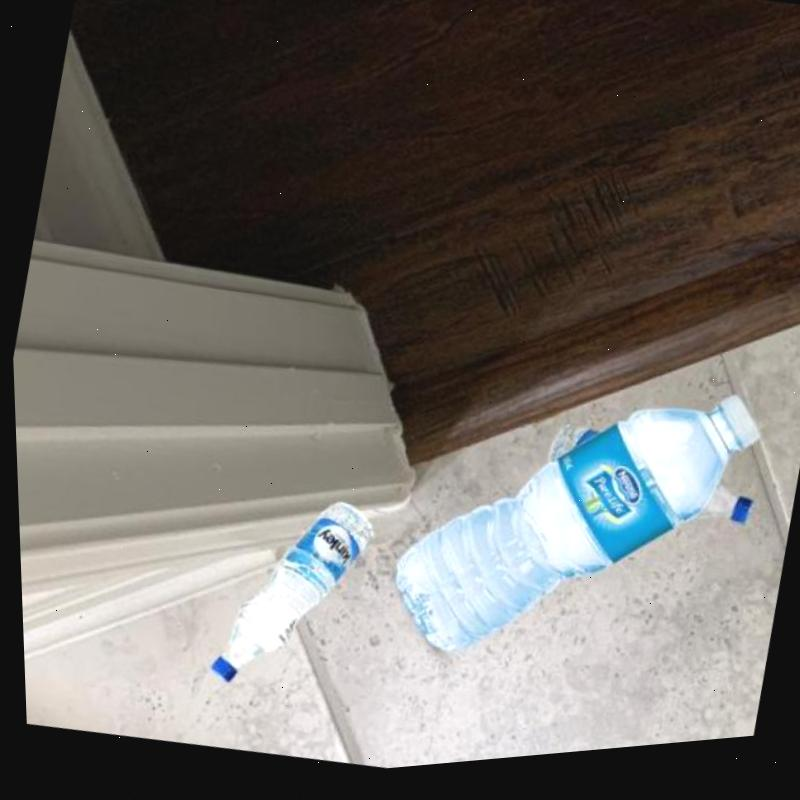botella: (366, 341, 772, 723), (197, 488, 381, 711), (537, 418, 762, 556)
